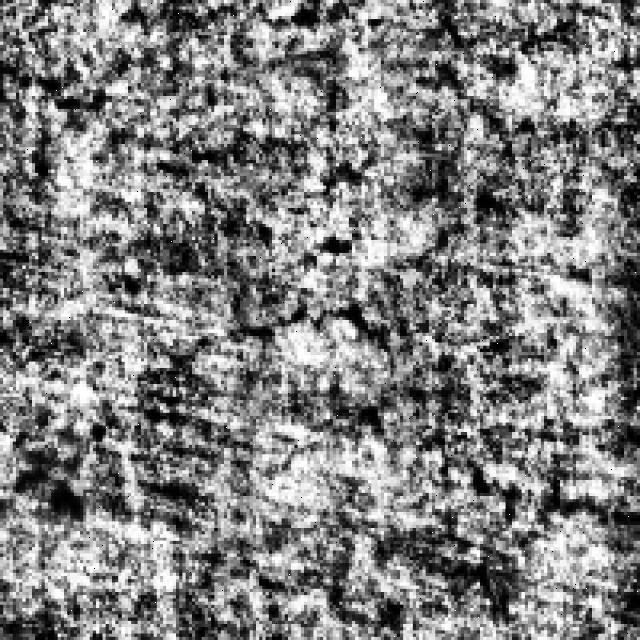Pitted_Surface: (342, 448, 640, 618), (160, 292, 406, 454)
